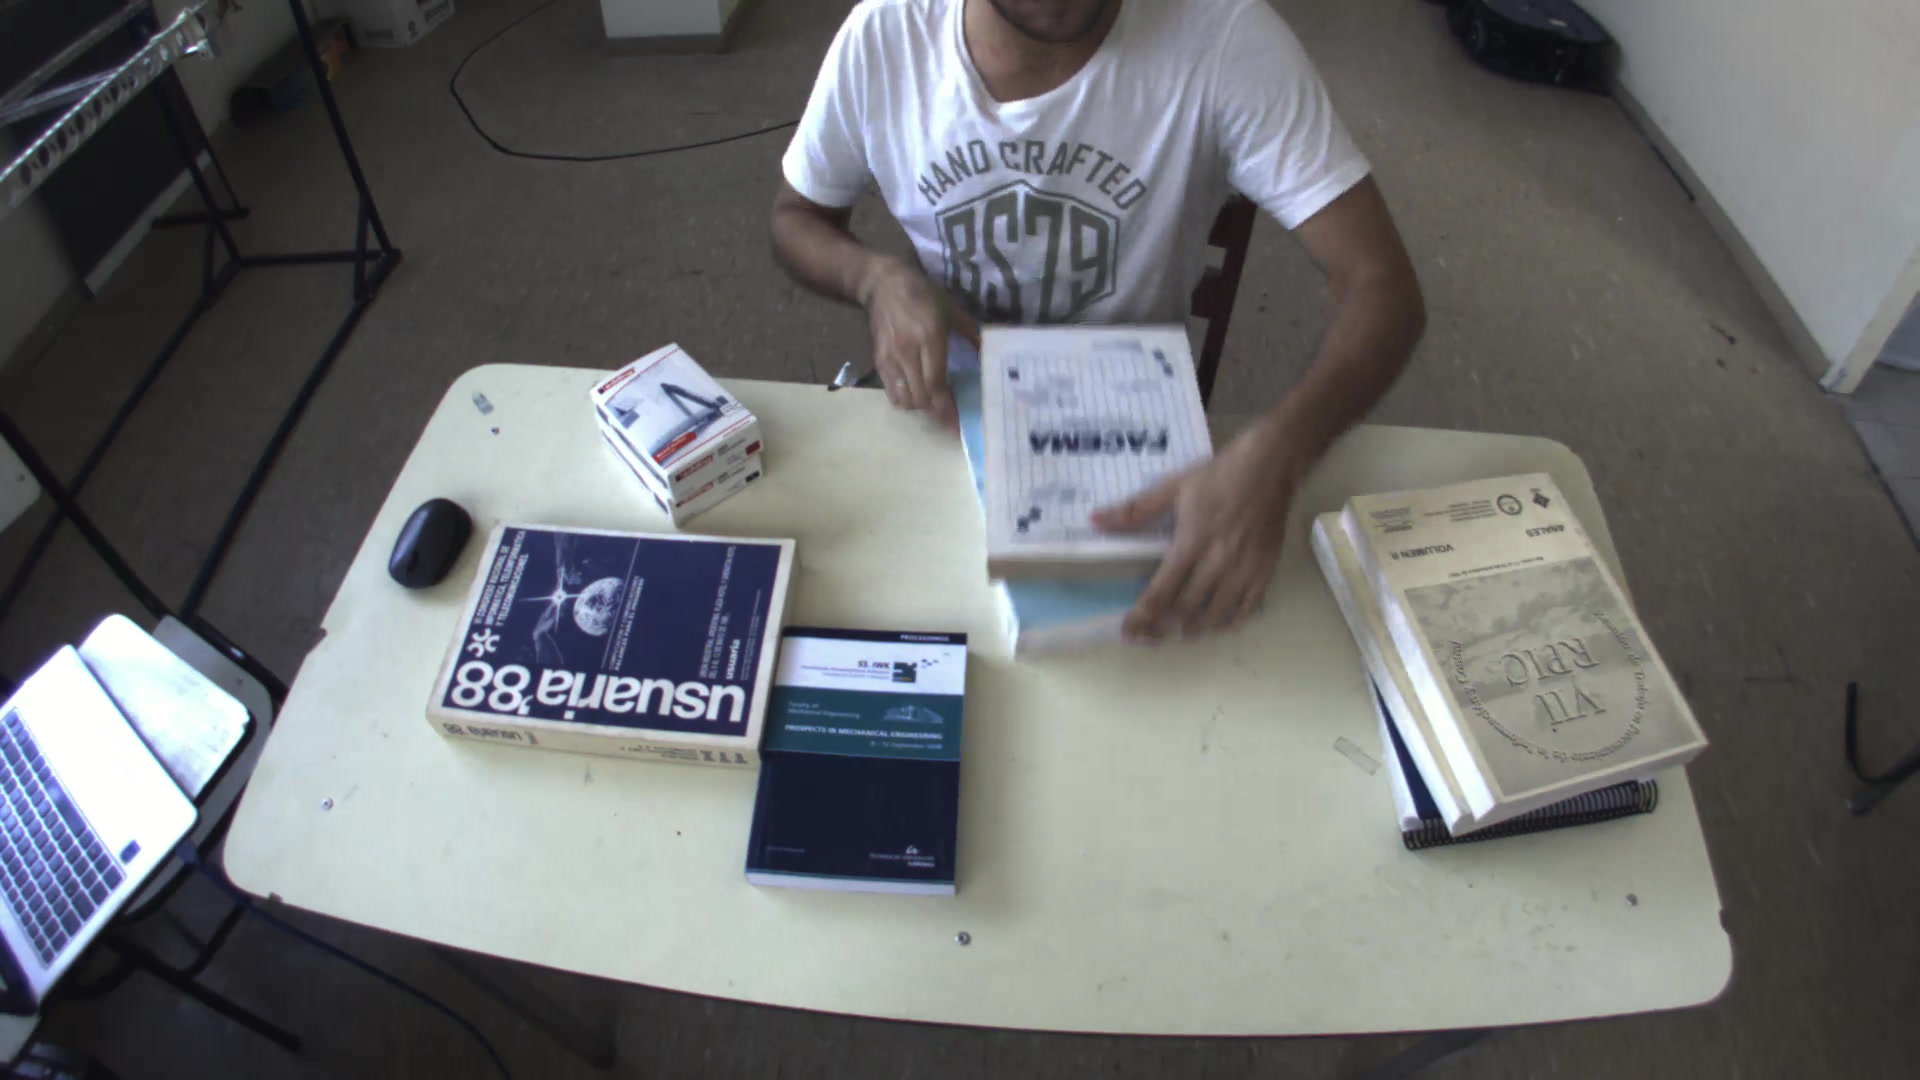hand: (1084, 443, 1338, 647), (841, 256, 996, 415)
